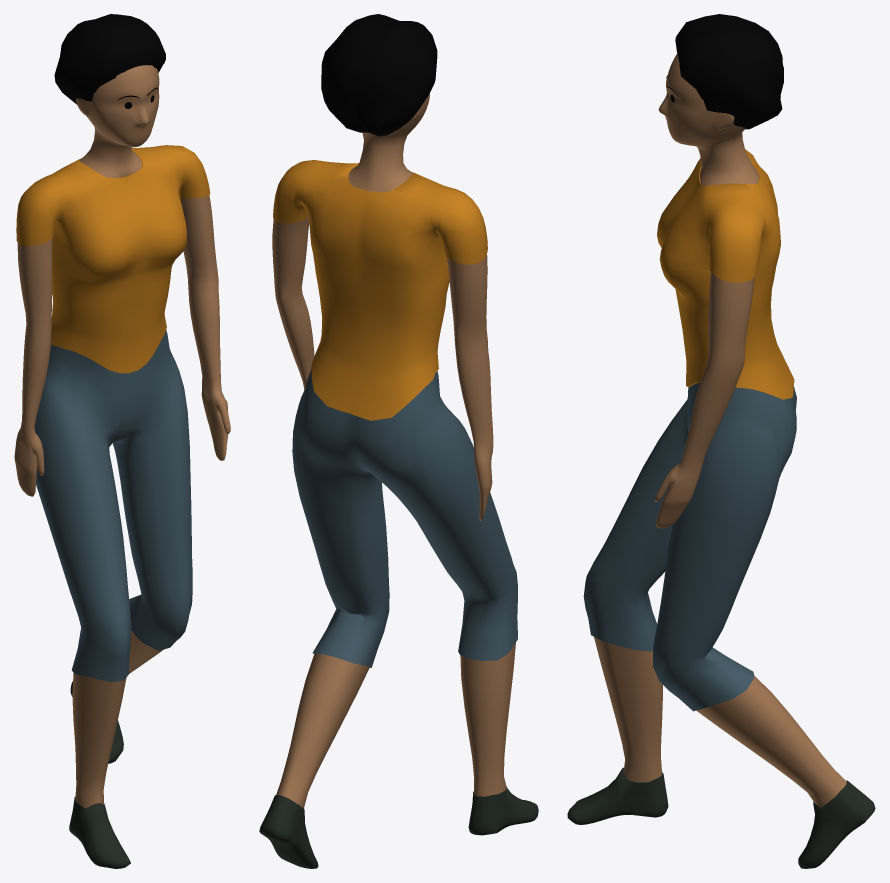
The model's file is Female_Walking_2.glb.
3 views of the same model, side by side, from view 1: azimuth 30°, elevation 25°; view 2: azimuth 150°, elevation 25°; view 3: azimuth 270°, elevation 25° (orthographic). The views are drawn at different scales.
Parts seen in each view (by area): view 1: Female-walking-2; view 2: Female-walking-2; view 3: Female-walking-2.
Part boxes in pixels (x1,y1,x2,y2): Female-walking-2: (14,14,230,868); Female-walking-2: (259,14,538,868); Female-walking-2: (567,14,875,868).
Size of the model in its own units: 0.4414 by 1.64 by 0.5525.
